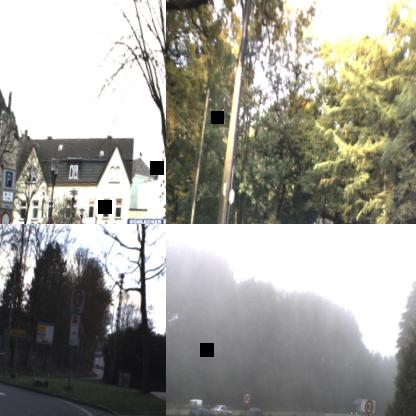no traffic both ways: (0, 209, 11, 224)
speed limit 30: (71, 288, 83, 307)
speed limit 80: (363, 398, 374, 415), (242, 390, 250, 405)
